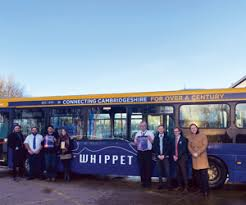bus: (1, 87, 246, 188)
